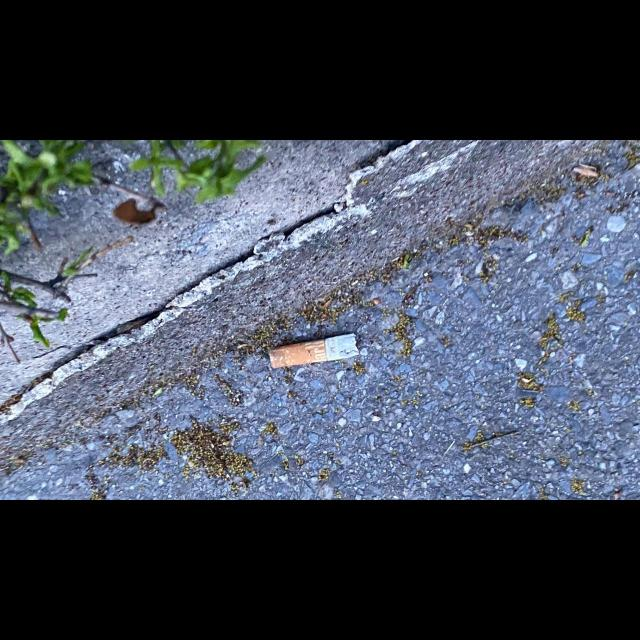cigarette: (268, 333, 359, 369)
